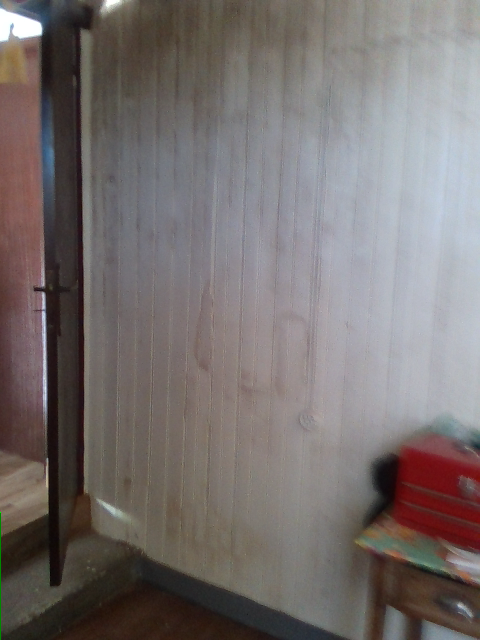semi: (3, 1, 91, 590)
